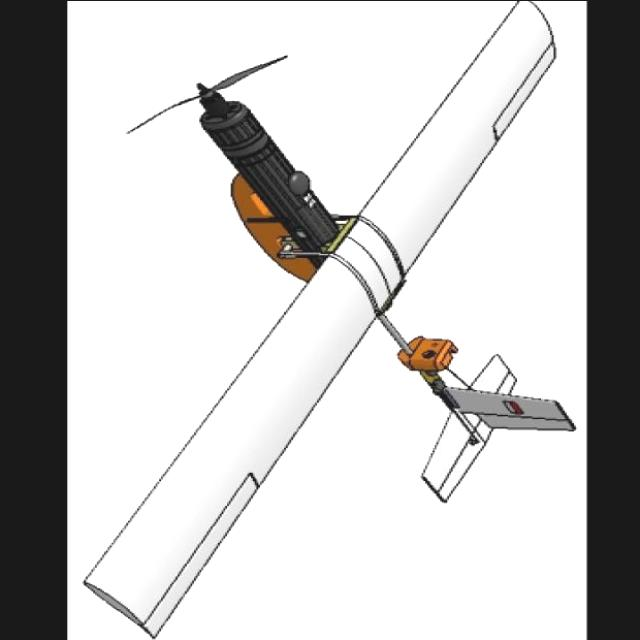plane: (83, 0, 578, 639)
